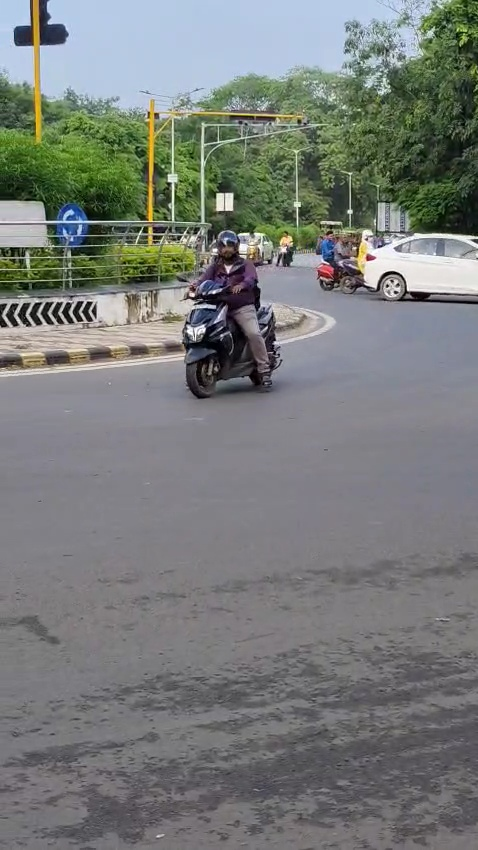BikeWithRider: (174, 225, 287, 402), (310, 226, 368, 294), (274, 229, 297, 268)
Helmet: (212, 227, 243, 263)
